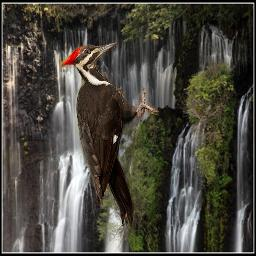Woodpecker: (59, 41, 159, 229)
